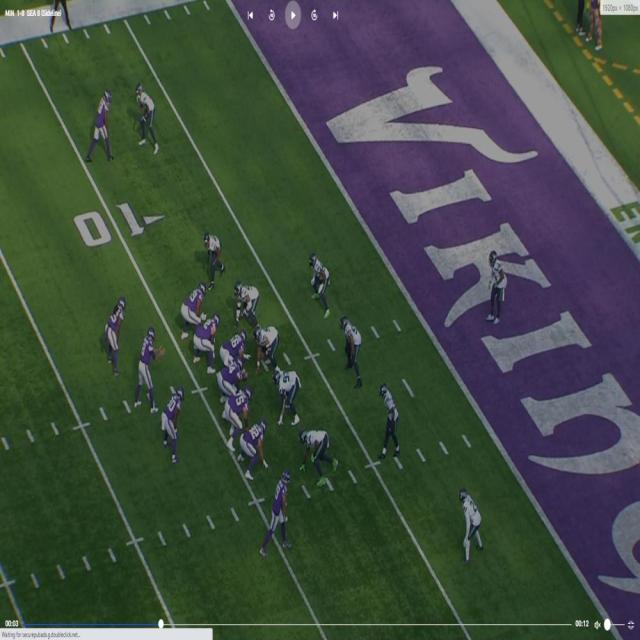center: (222, 331, 248, 372)
db: (136, 83, 160, 147), (488, 244, 508, 320), (462, 489, 484, 552), (208, 233, 224, 278)
lb: (379, 384, 399, 458), (344, 316, 364, 378), (308, 252, 328, 308)
qb: (138, 335, 155, 409)
skill: (271, 469, 291, 550), (93, 88, 114, 154), (240, 424, 269, 471), (107, 300, 126, 366), (162, 389, 181, 452)
